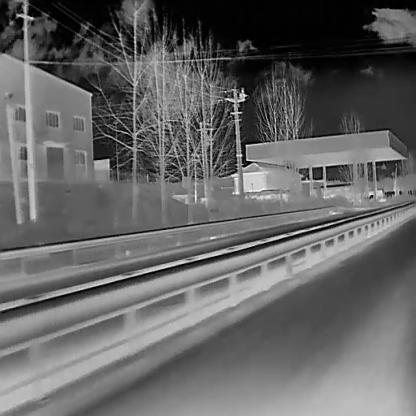bus: (241, 188, 291, 203), (366, 186, 385, 202)
